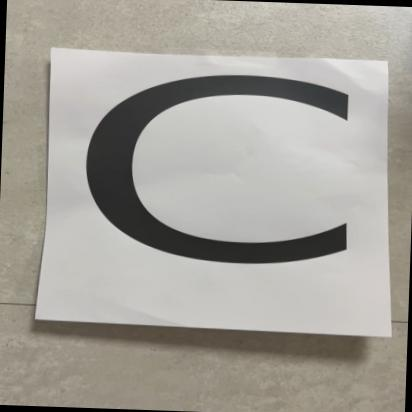seat: (54, 54, 388, 336)
